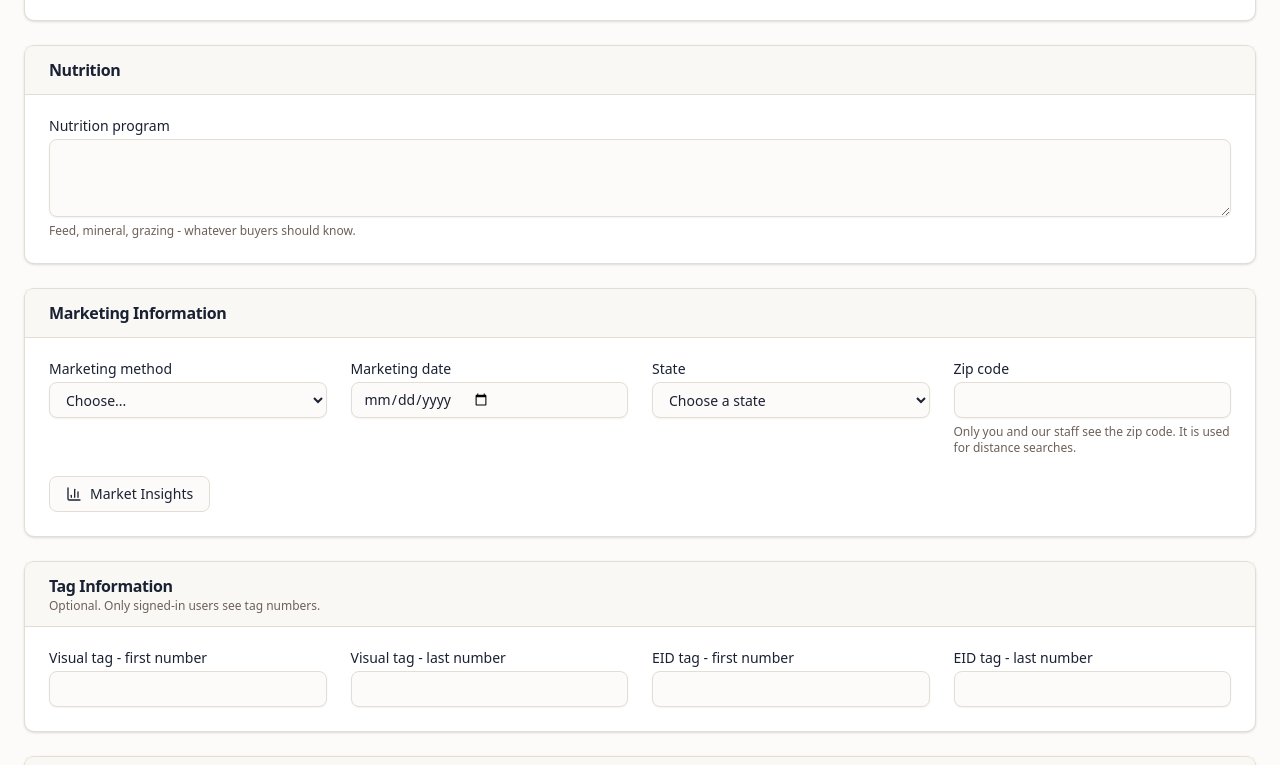
Test case: auction market fills in the location › choosing a market shows its location and removes the state and zip boxes
The image size is (1280, 765).
(page scrolled)
Select "Auction" in the dropdown labelled "Marketing method": (188, 400) [49,382,326,418]
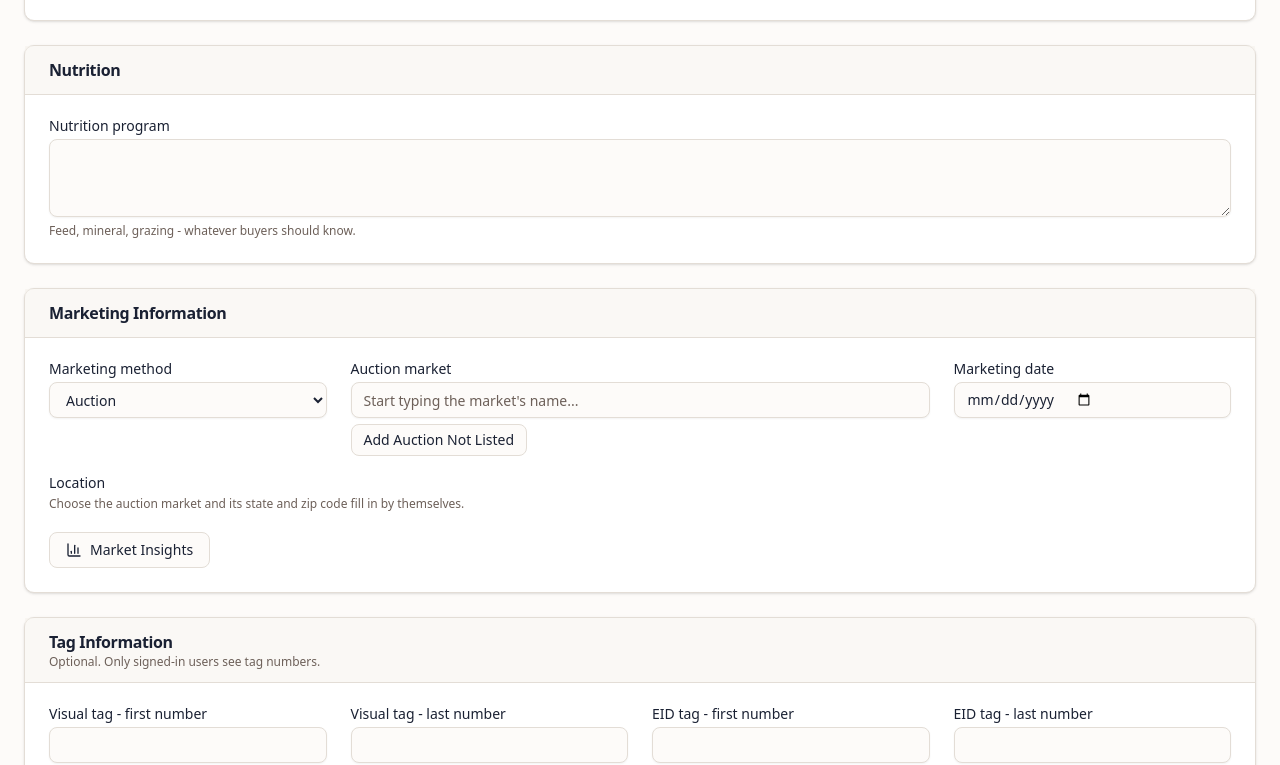
Result: the text "state and zip code fill in by themselves" is shown at [49,495,464,512]
In the field labelled "Auction market": (640, 400) [350,382,930,418], type "Bry"
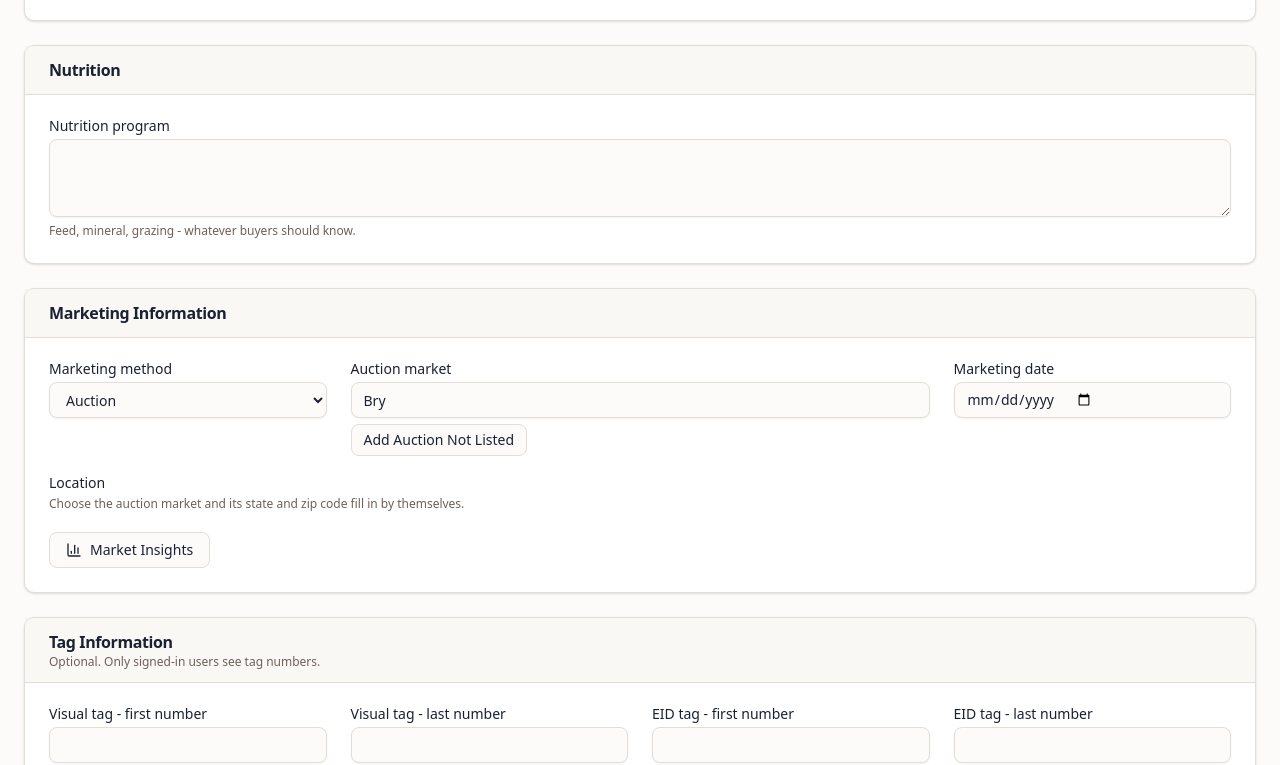
Replace the text in the field labelled "Auction market" with "Bryan Livestock": (640, 400) [350,382,930,418]
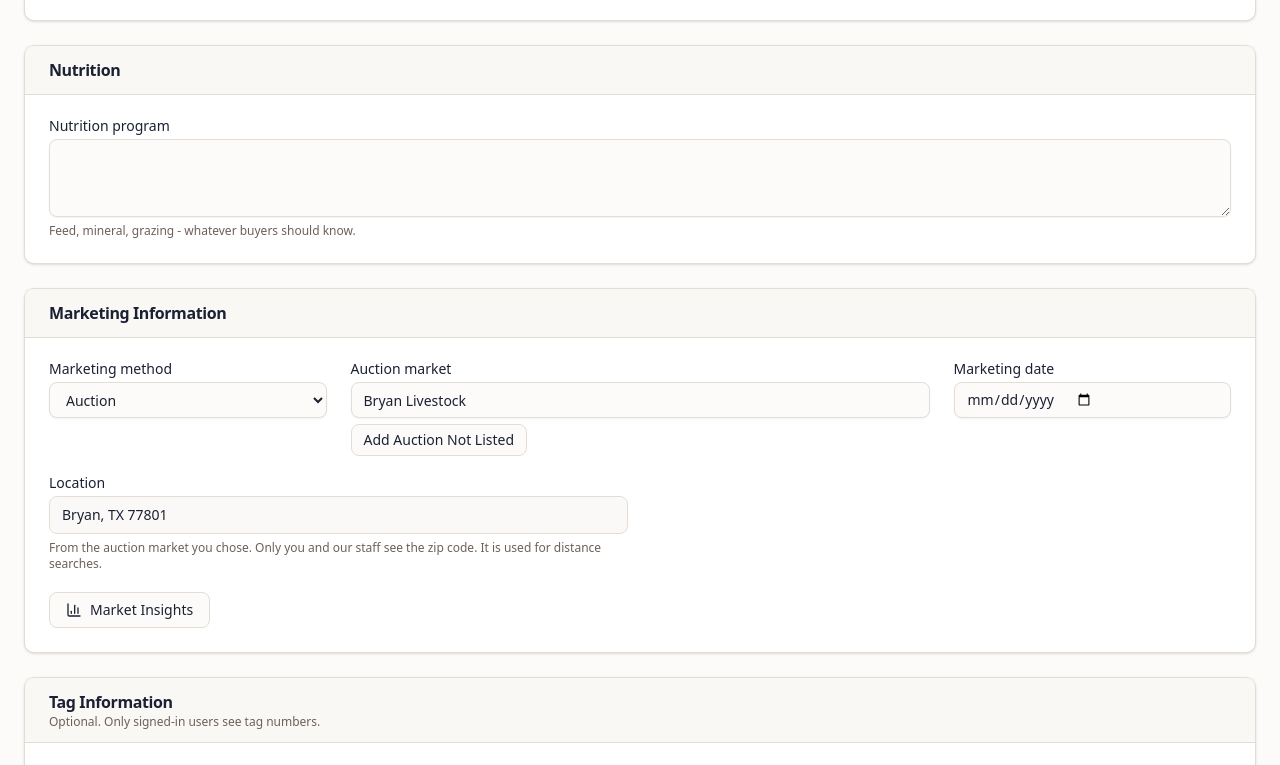
Result: the element "Location" shows "Bryan, TX 77801" at [62,505,168,524]
Result: the text labelled "state" is gone
